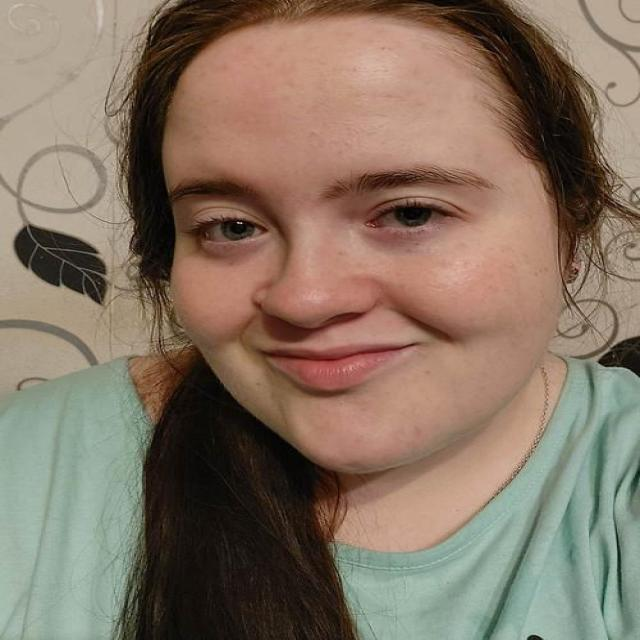redness: (301, 396, 407, 463), (226, 46, 291, 148), (351, 276, 393, 313), (309, 228, 342, 271)
